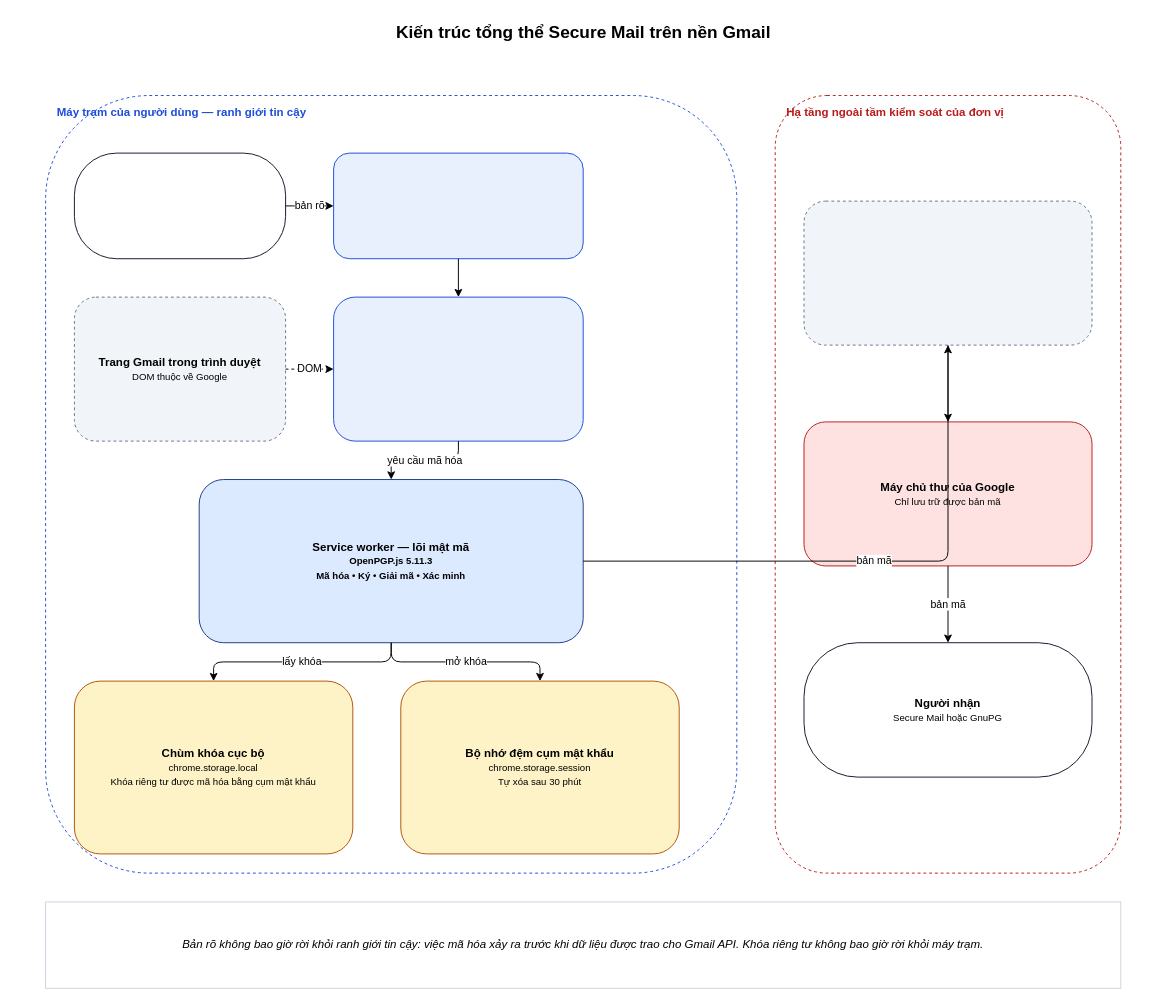
The diagram is 1165 pixels wide and 1005 high, and some of its shapes have lost their labels. Each missing label, with the centre of its shape:
Content script của Secure Mail Chèn nút và khung soạn thảo riêng: point (458, 368)
Gmail API googleapis.com Chỉ nhận và trả bản mã: point (947, 272)
Khung soạn thảo cách ly iframe của tiện ích: point (458, 205)
Người dùng Soạn và đọc thư: point (179, 205)
